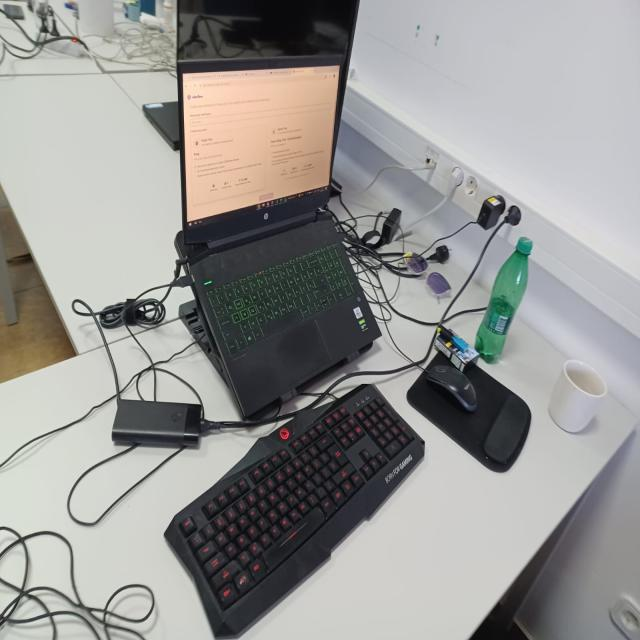Laptops_bbox: (154, 51, 425, 425)
